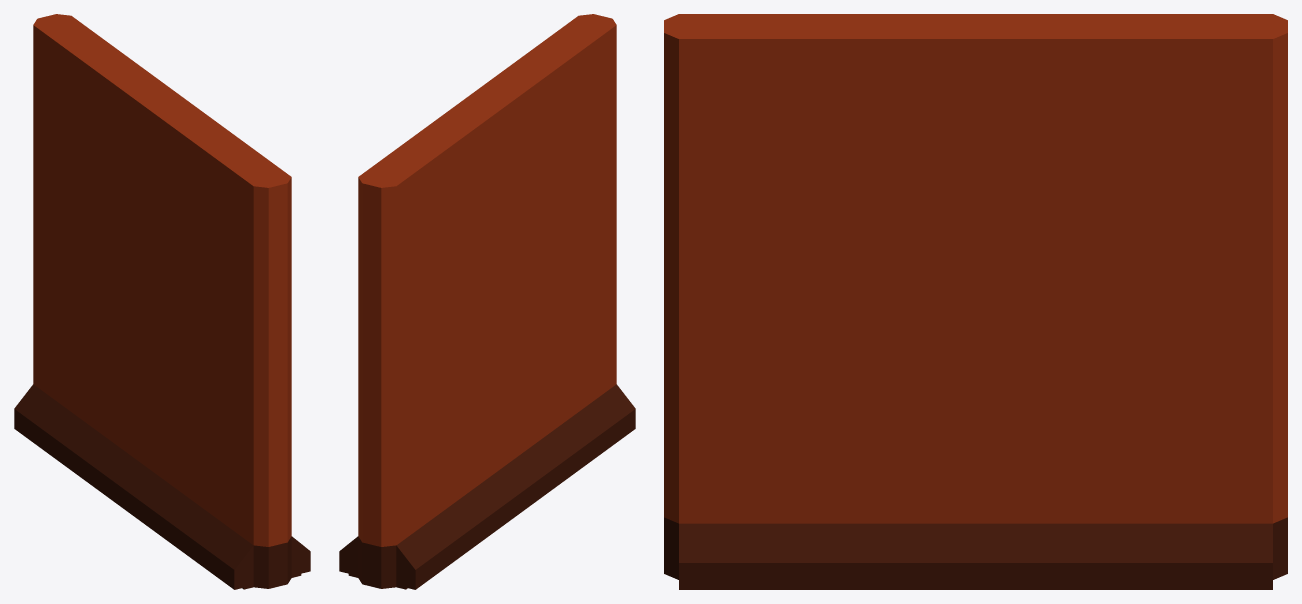
Rendered from Wall_8_0.fbx.
3 renders of one model, left to right at view 1: azimuth 30°, elevation 25°; view 2: azimuth 150°, elevation 25°; view 3: azimuth 270°, elevation 25°, orthographic. The views are drawn at different scales.
Visible parts, largest first — view 1: Wall/8_0; view 2: Wall/8_0; view 3: Wall/8_0.
Part boxes in pixels (box(x1,y1,x2,y2)): Wall/8_0: box(14, 14, 310, 589); Wall/8_0: box(339, 14, 635, 589); Wall/8_0: box(664, 14, 1287, 589).
Size of the model in its own units: 0.4 by 2.1 by 2.01.
